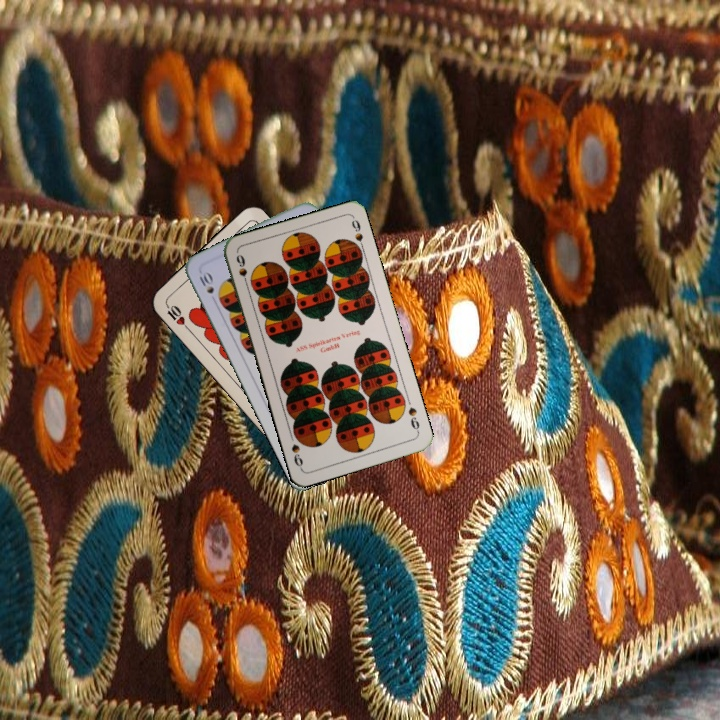H10: (161, 298, 191, 332)
S10: (195, 268, 219, 306)
S9: (232, 250, 251, 290), (404, 403, 422, 436)
